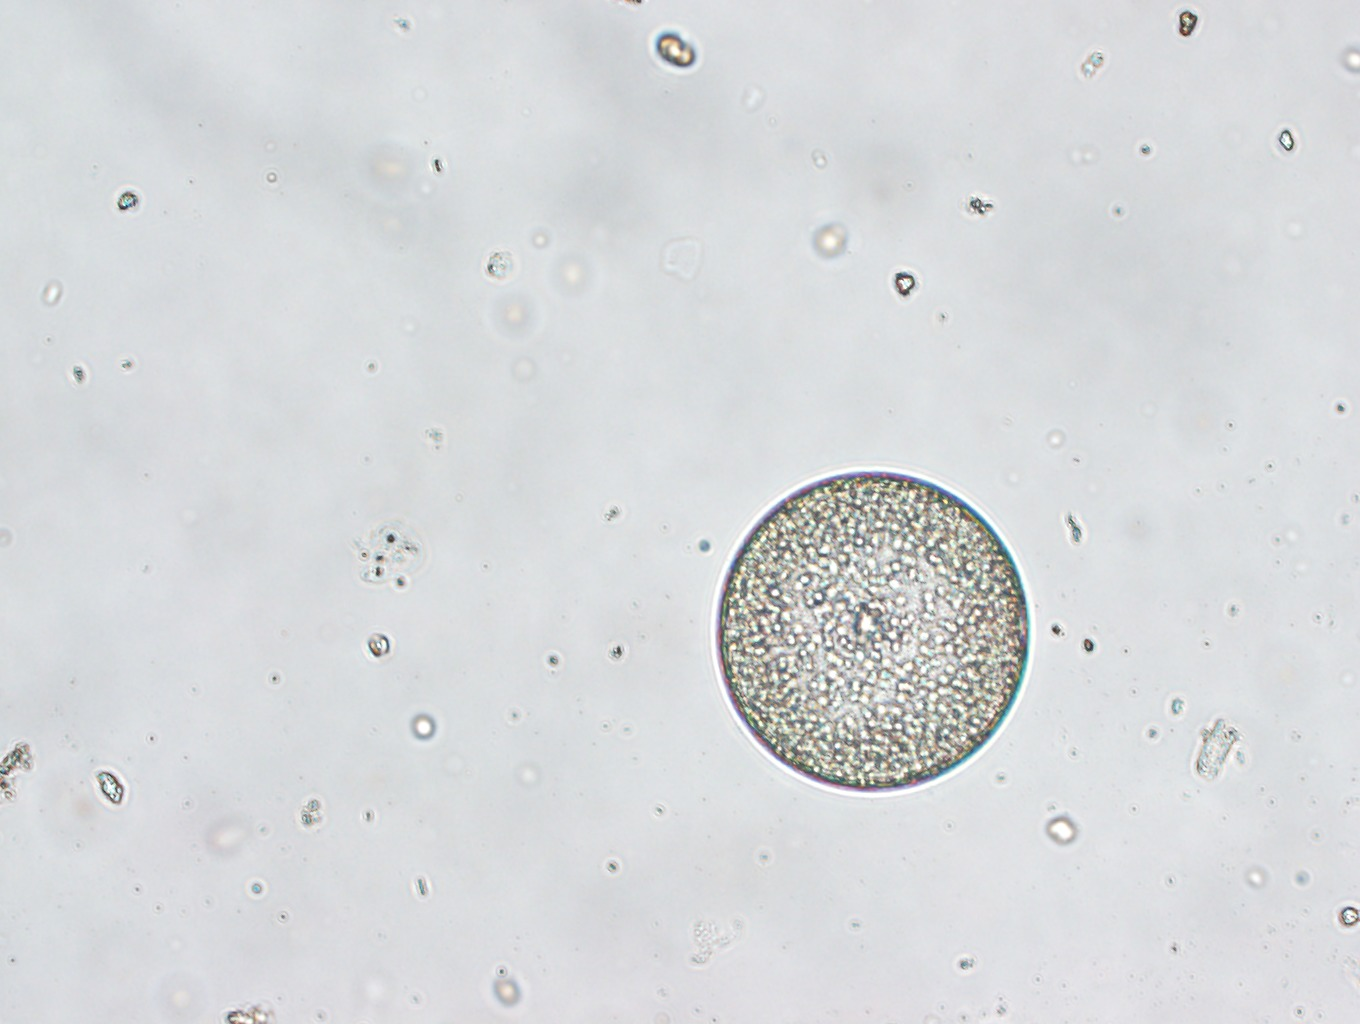coscinodiscus: (708, 463, 1042, 802)
